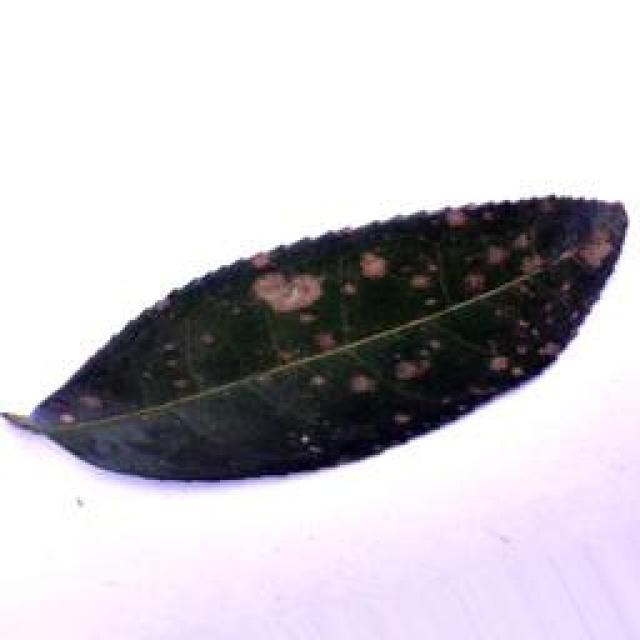Algal Leaf Spot: (22, 187, 629, 492)
